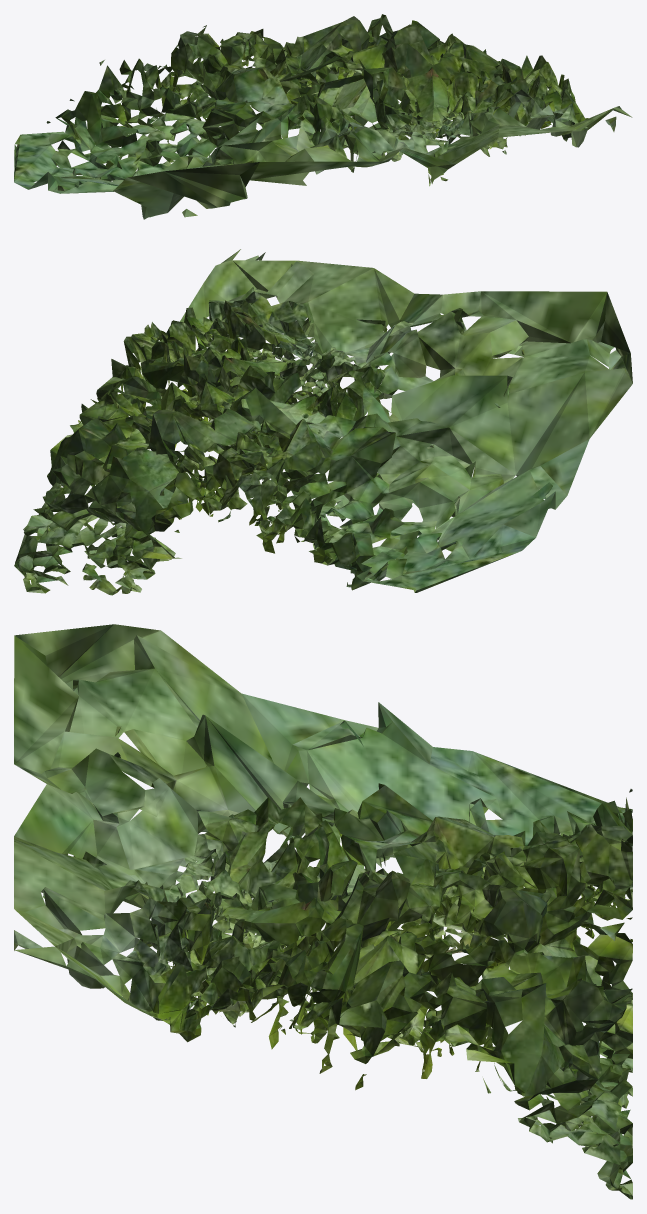
File: grass-tile-b.glb
3 renders of one model, top to bottom at view 1: azimuth 30°, elevation 25°; view 2: azimuth 150°, elevation 25°; view 3: azimuth 270°, elevation 25°, orthographic. The views are drawn at different scales.
Parts seen in each view (by area): view 1: Tile_2; view 2: Tile_2; view 3: Tile_2.
Boxes of the visible parts, left/top/right/bottom form: Tile_2: left=14, top=14, right=632, bottom=219; Tile_2: left=14, top=249, right=632, bottom=595; Tile_2: left=14, top=624, right=632, bottom=1199.
Bounding box in the file's own units: 23.11 × 10.95 × 19.33.
2 materials, 2 textured.
